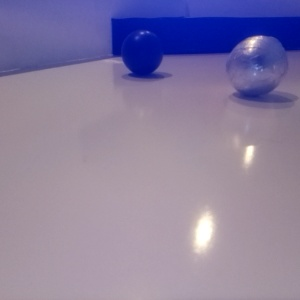zone: (22, 16, 300, 111)
